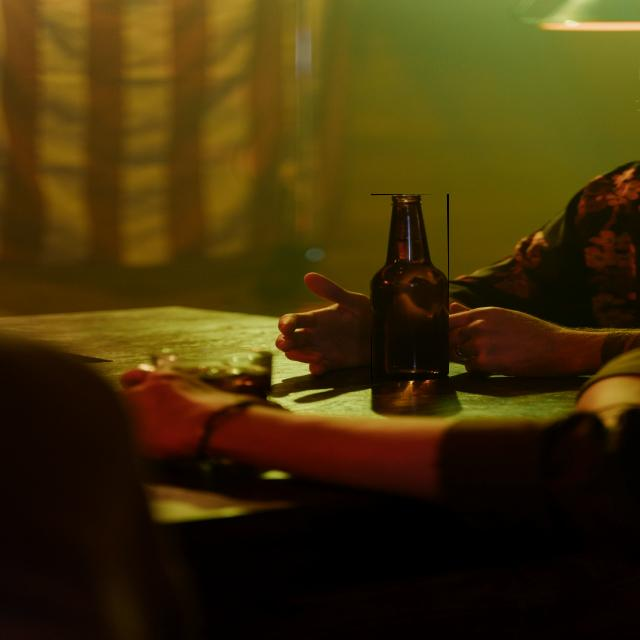Bottle: (370, 195, 447, 379)
